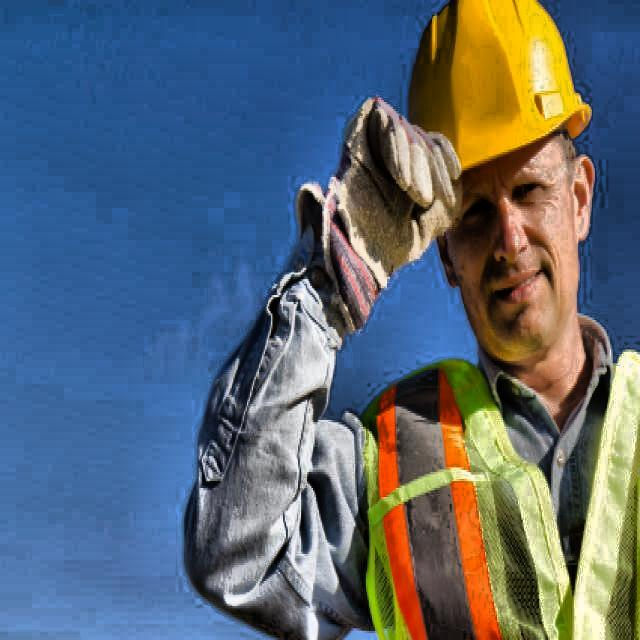person: (195, 0, 632, 640)
